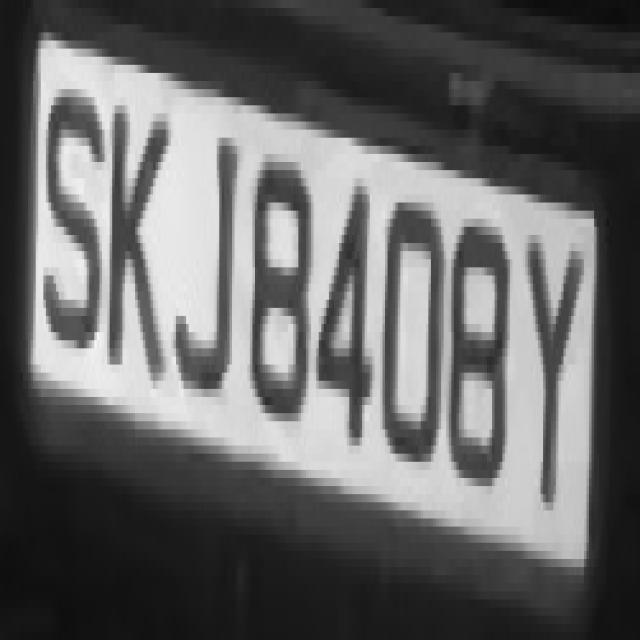0: (374, 129, 444, 470)
4: (304, 122, 372, 486)
8: (247, 105, 314, 470), (444, 186, 510, 494)
J: (174, 73, 242, 445)
K: (102, 65, 168, 405)
S: (43, 49, 102, 372)
Y: (520, 186, 587, 543)
